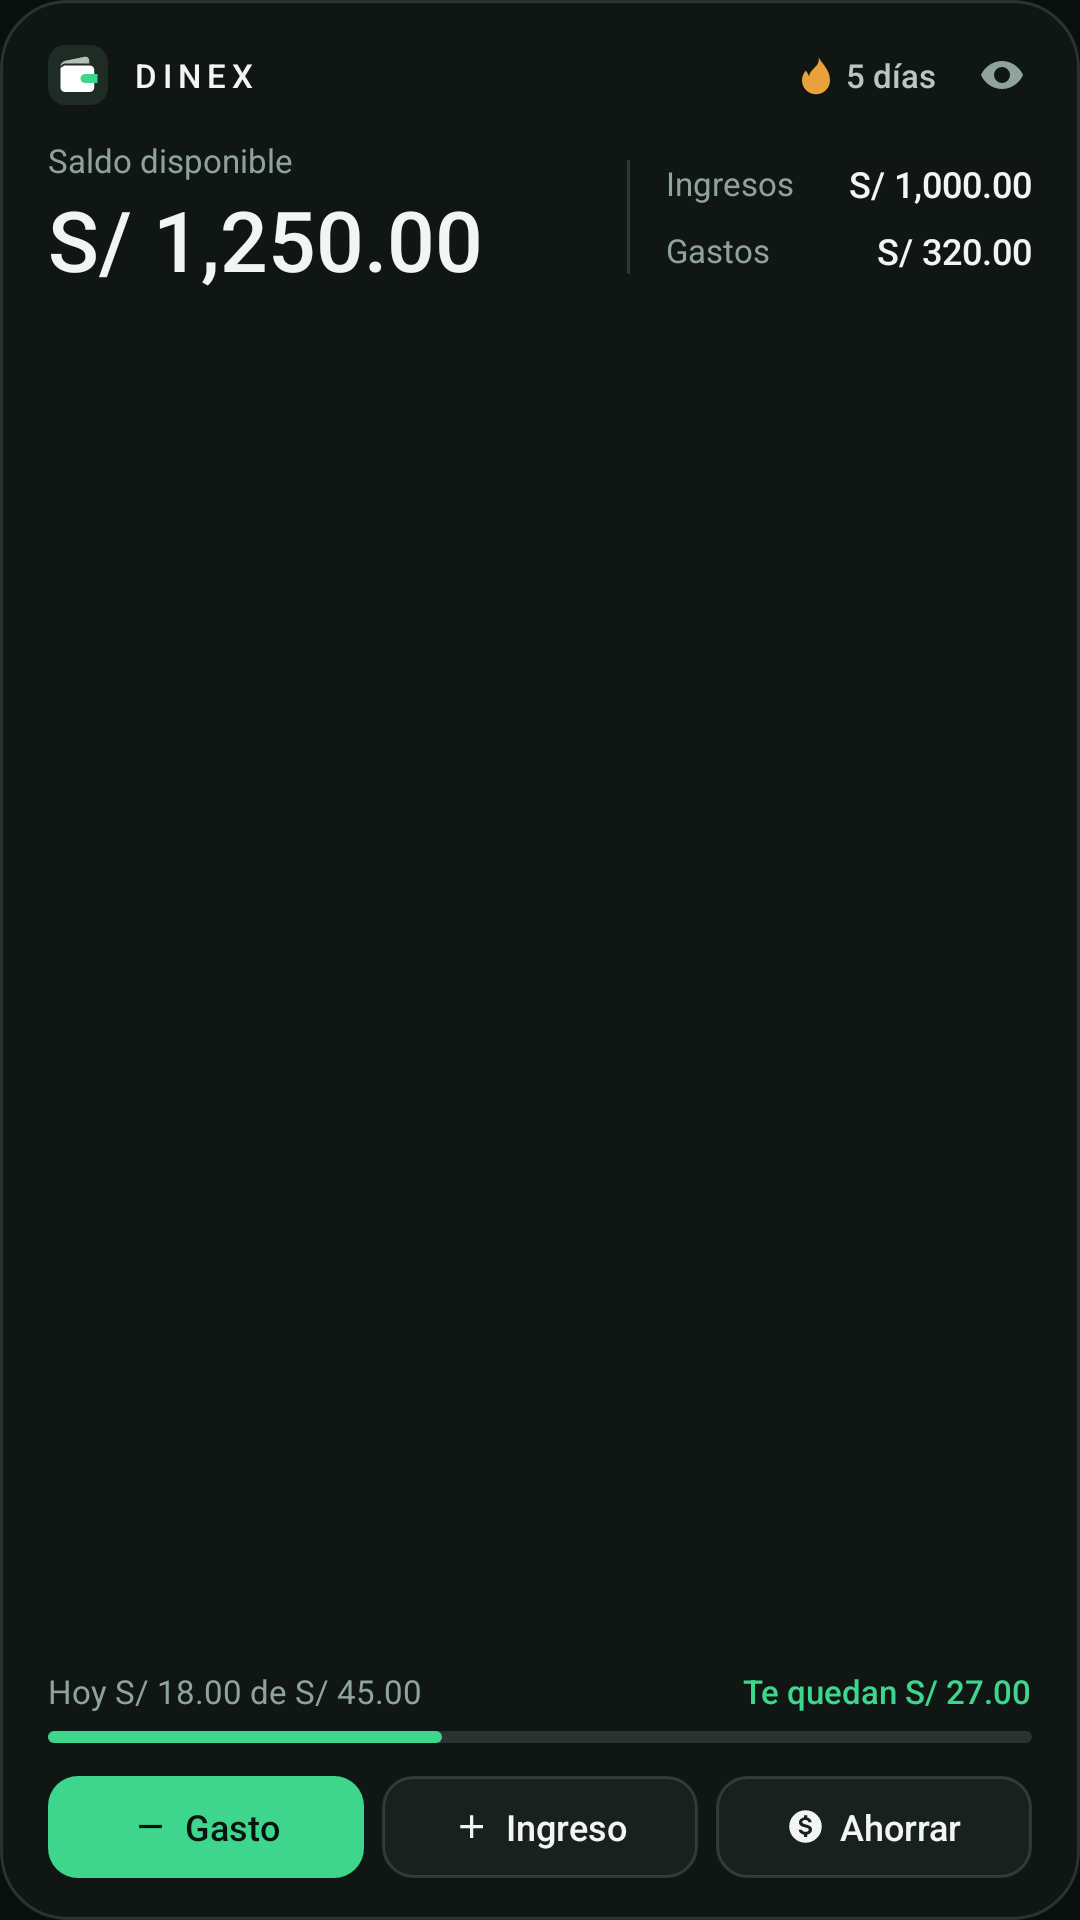

Icons on this 1080*1920 Android screen, each with the point to tap as point (x, y):
Mostrar u ocultar montos: point (1002, 75)
widget coin: point (805, 1826)
